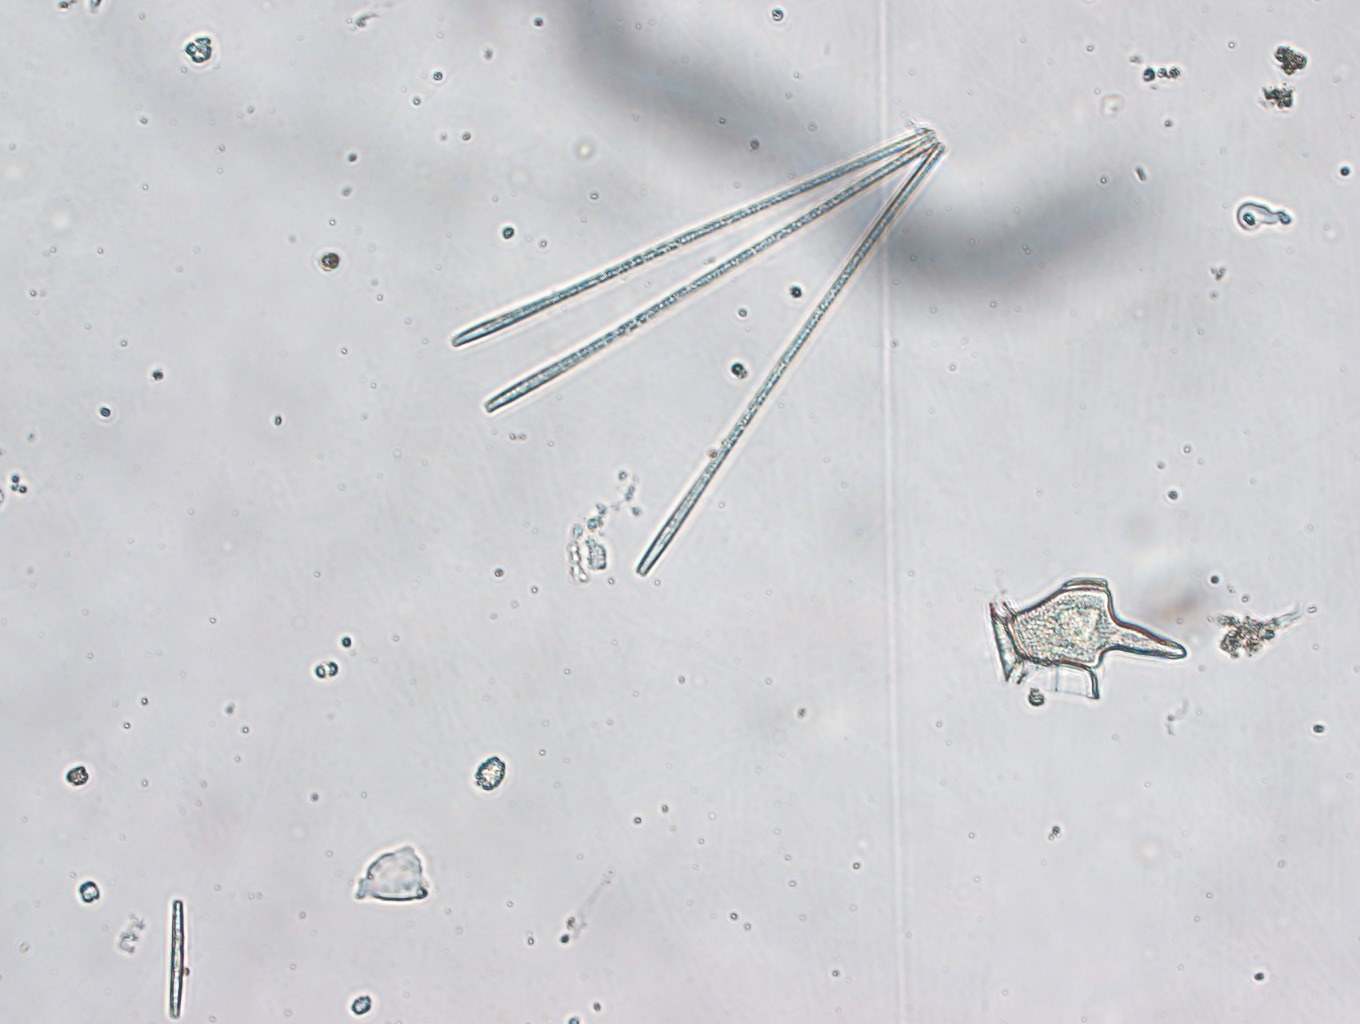dinophysis caudata: (979, 573, 1188, 712)
thalassionema frauenfeldii: (450, 120, 950, 591)
